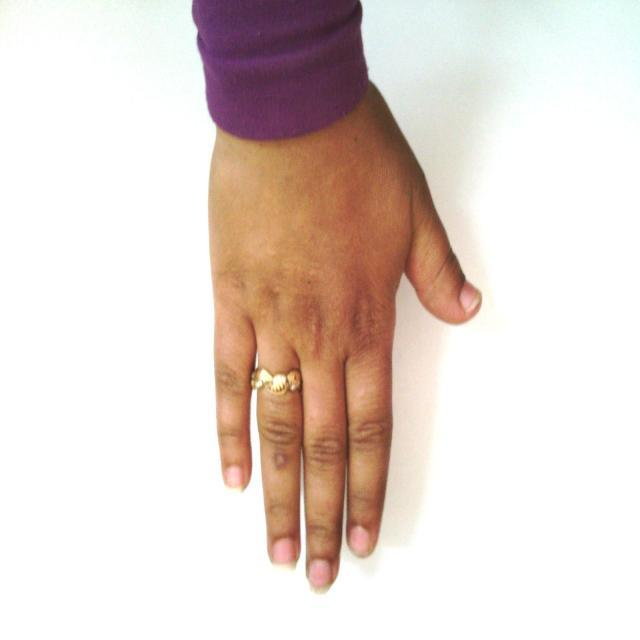Fingernail: (309, 559, 331, 593), (272, 539, 295, 569), (349, 527, 371, 556), (461, 283, 480, 311), (226, 466, 244, 491)
